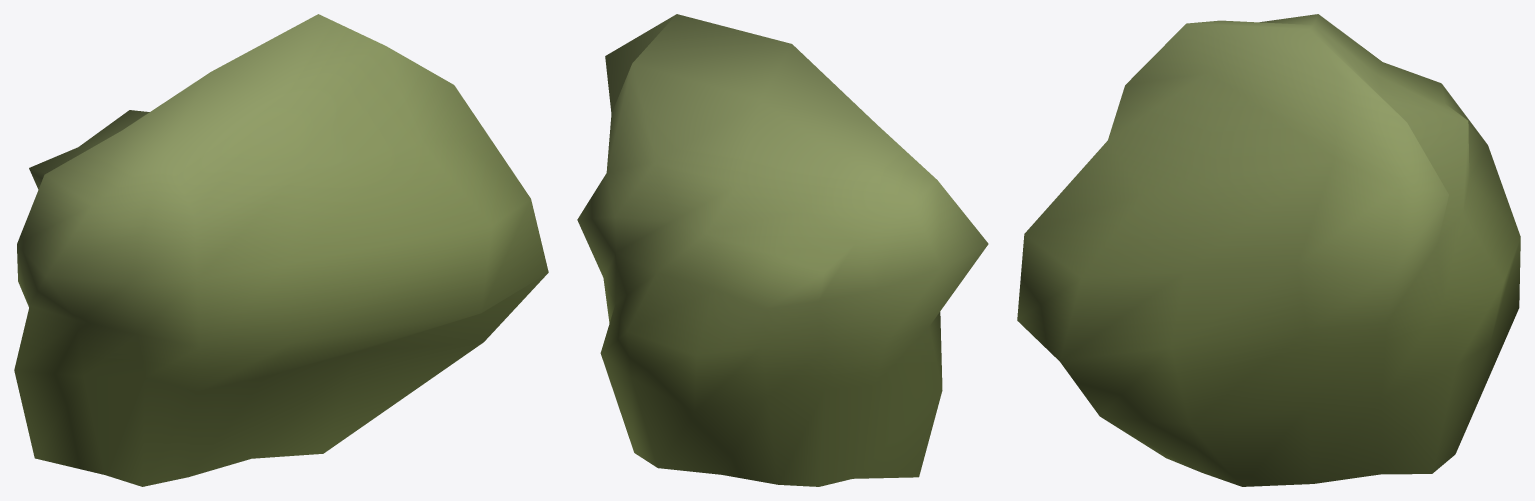
Rendered from WE02_Brush15.fbx.
3 renders of one model, left to right at view 1: azimuth 30°, elevation 25°; view 2: azimuth 150°, elevation 25°; view 3: azimuth 270°, elevation 25°, orthographic. The views are drawn at different scales.
Parts seen in each view (by area): view 1: WE02_Brush15; view 2: WE02_Brush15; view 3: WE02_Brush15.
Part boxes in pixels (box(x1,y1,x2,y2)): WE02_Brush15: box(14, 14, 548, 486); WE02_Brush15: box(577, 14, 988, 486); WE02_Brush15: box(1017, 14, 1520, 486).
Bounding box in the file's own units: 5.86 × 4.86 × 5.15.
